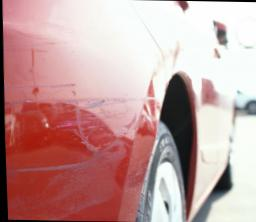Bumper: (4, 76, 165, 190)
